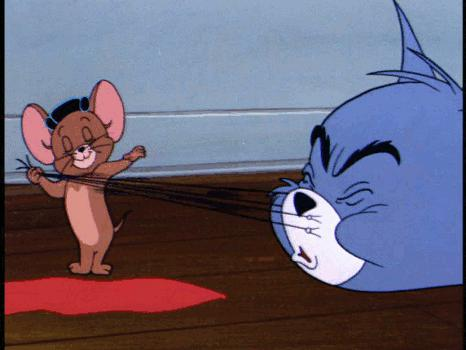jerry: (18, 79, 147, 277)
